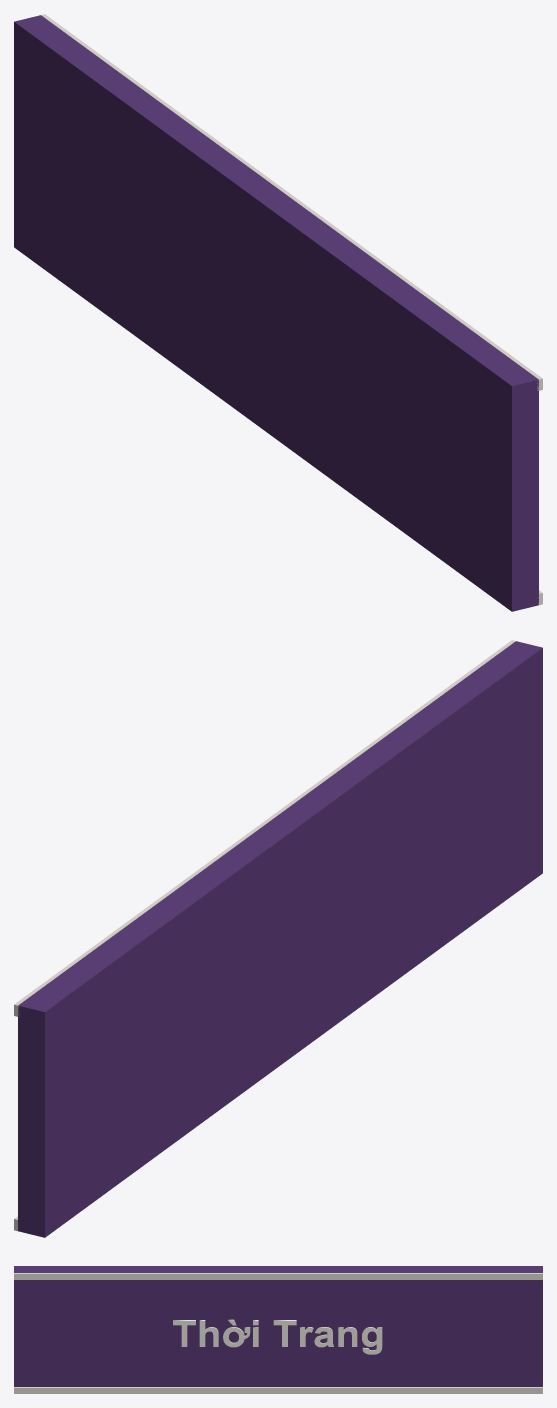
File: OW_Mau_Bang_7_0_12.fbx
3 views of the same model, one above another, from view 1: azimuth 30°, elevation 25°; view 2: azimuth 150°, elevation 25°; view 3: azimuth 270°, elevation 25° (orthographic). The views are drawn at different scales.
Parts seen in each view (by area): view 1: OW_Bang_Thời Trang.004; view 2: OW_Bang_Thời Trang.004; view 3: OW_Bang_Thời Trang.004, Chữ • Thời Trang.004_Mesh.
Part boxes in pixels (x1,y1,x2,y2): OW_Bang_Thời Trang.004: (14,14,542,611); OW_Bang_Thời Trang.004: (14,640,542,1237); OW_Bang_Thời Trang.004: (14,1266,542,1393); Chữ • Thời Trang.004_Mesh: (173,1319,382,1354).
Bounding box in the file's own units: 0.24 × 1.6 × 6.4.
